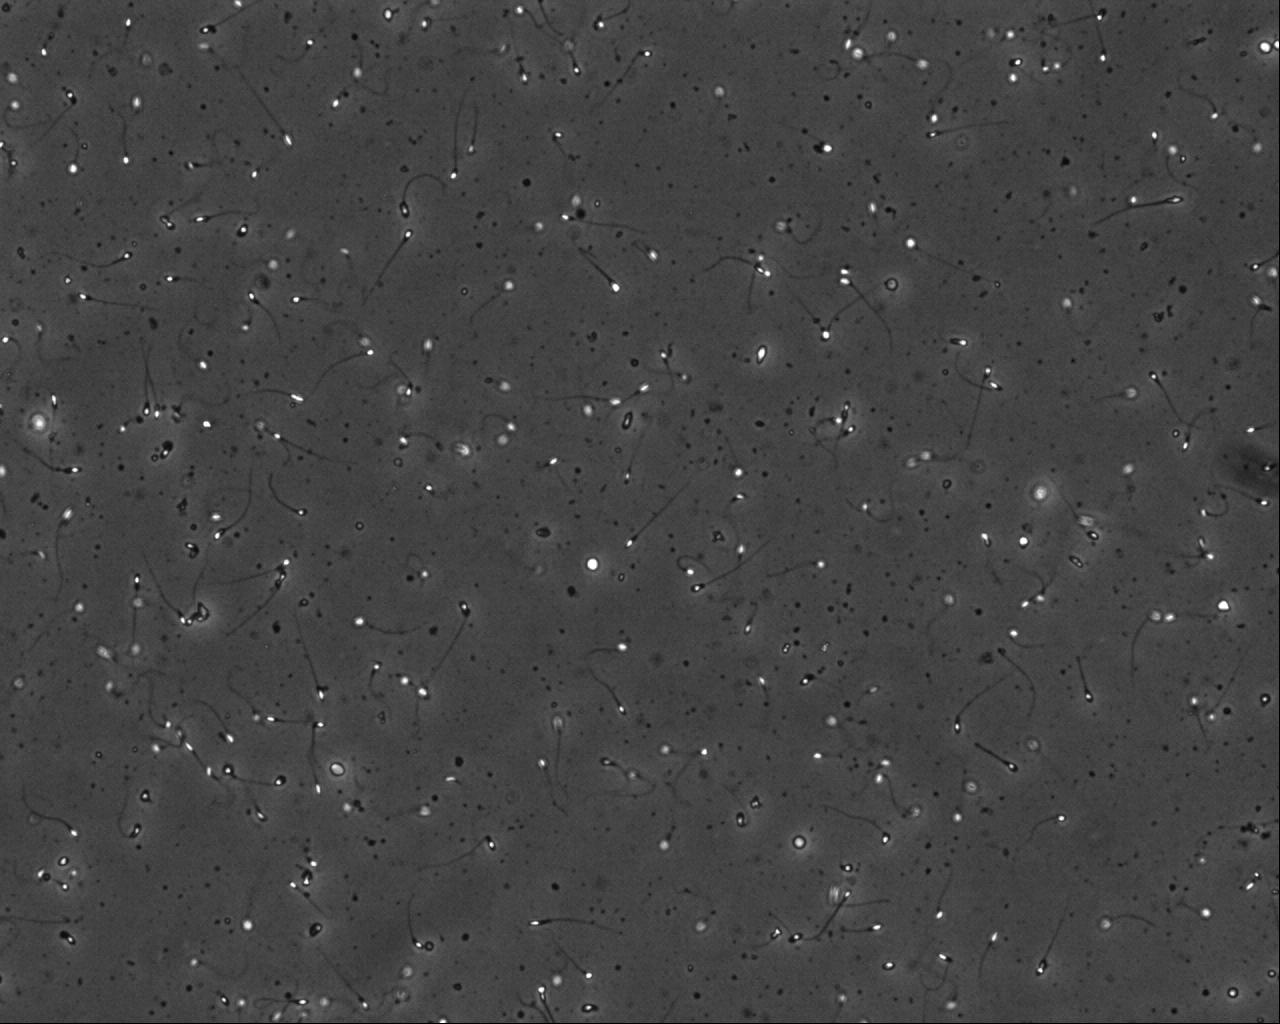cell: (25, 408, 53, 438), (1026, 478, 1054, 507), (580, 553, 604, 576)
